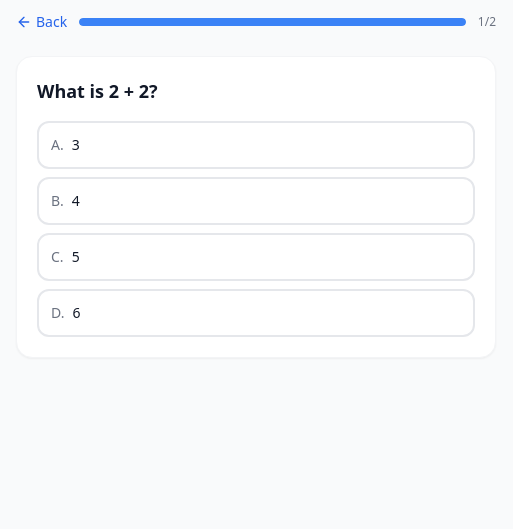
Test: QuizGame onNewSet › keeps "Try Again" alongside it
What coordinates should you click on to do the following:
click the button "B.4"
I would click on:
 (55, 200)
Its box is [37,177,475,225].
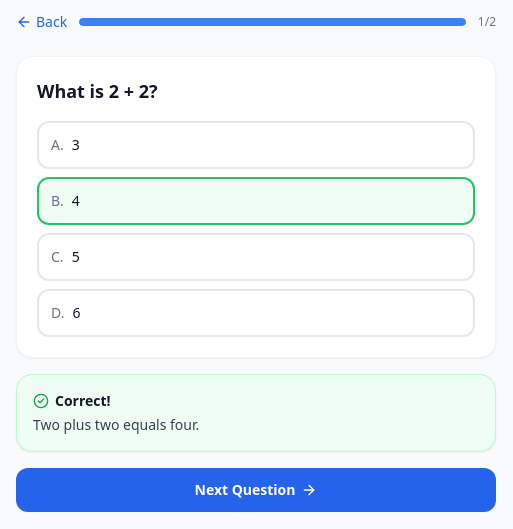
What coordinates should you click on to do the following:
click the button "Next Question"
I would click on:
 (256, 490)
Its box is [16,468,496,512].
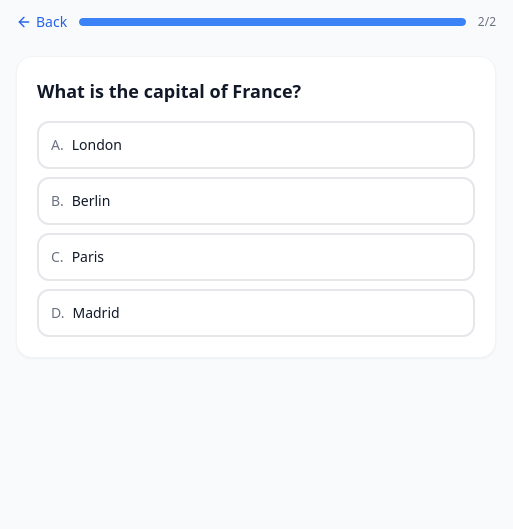
What coordinates should you click on to do the following:
click the button "C.Paris"
I would click on:
 (88, 256)
Its box is [37,233,475,281].
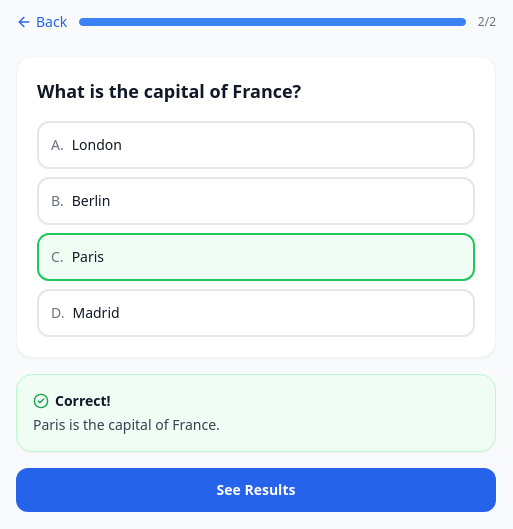
What coordinates should you click on to do the following:
click the button "See Results"
I would click on:
 (256, 490)
Its box is [16,468,496,512].
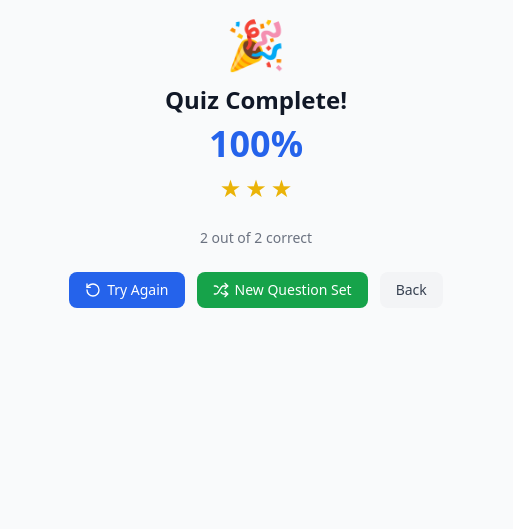
Check: the button "Try Again" is shown, box [69,272,184,308]
